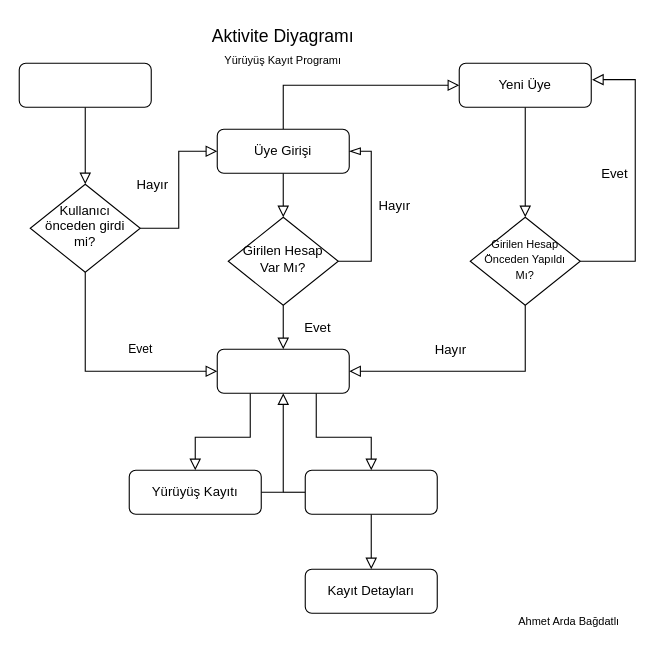
This 666x653 diagram has some shape labels left out. Here are the shapes that lost their labels. From the top down, the centre of each, then its label:
At (x=84, y=84): "Uygulama Açıldı".
At (x=282, y=370): "Ana Menü".
At (x=370, y=491): "Kayıt Geçmişi".
